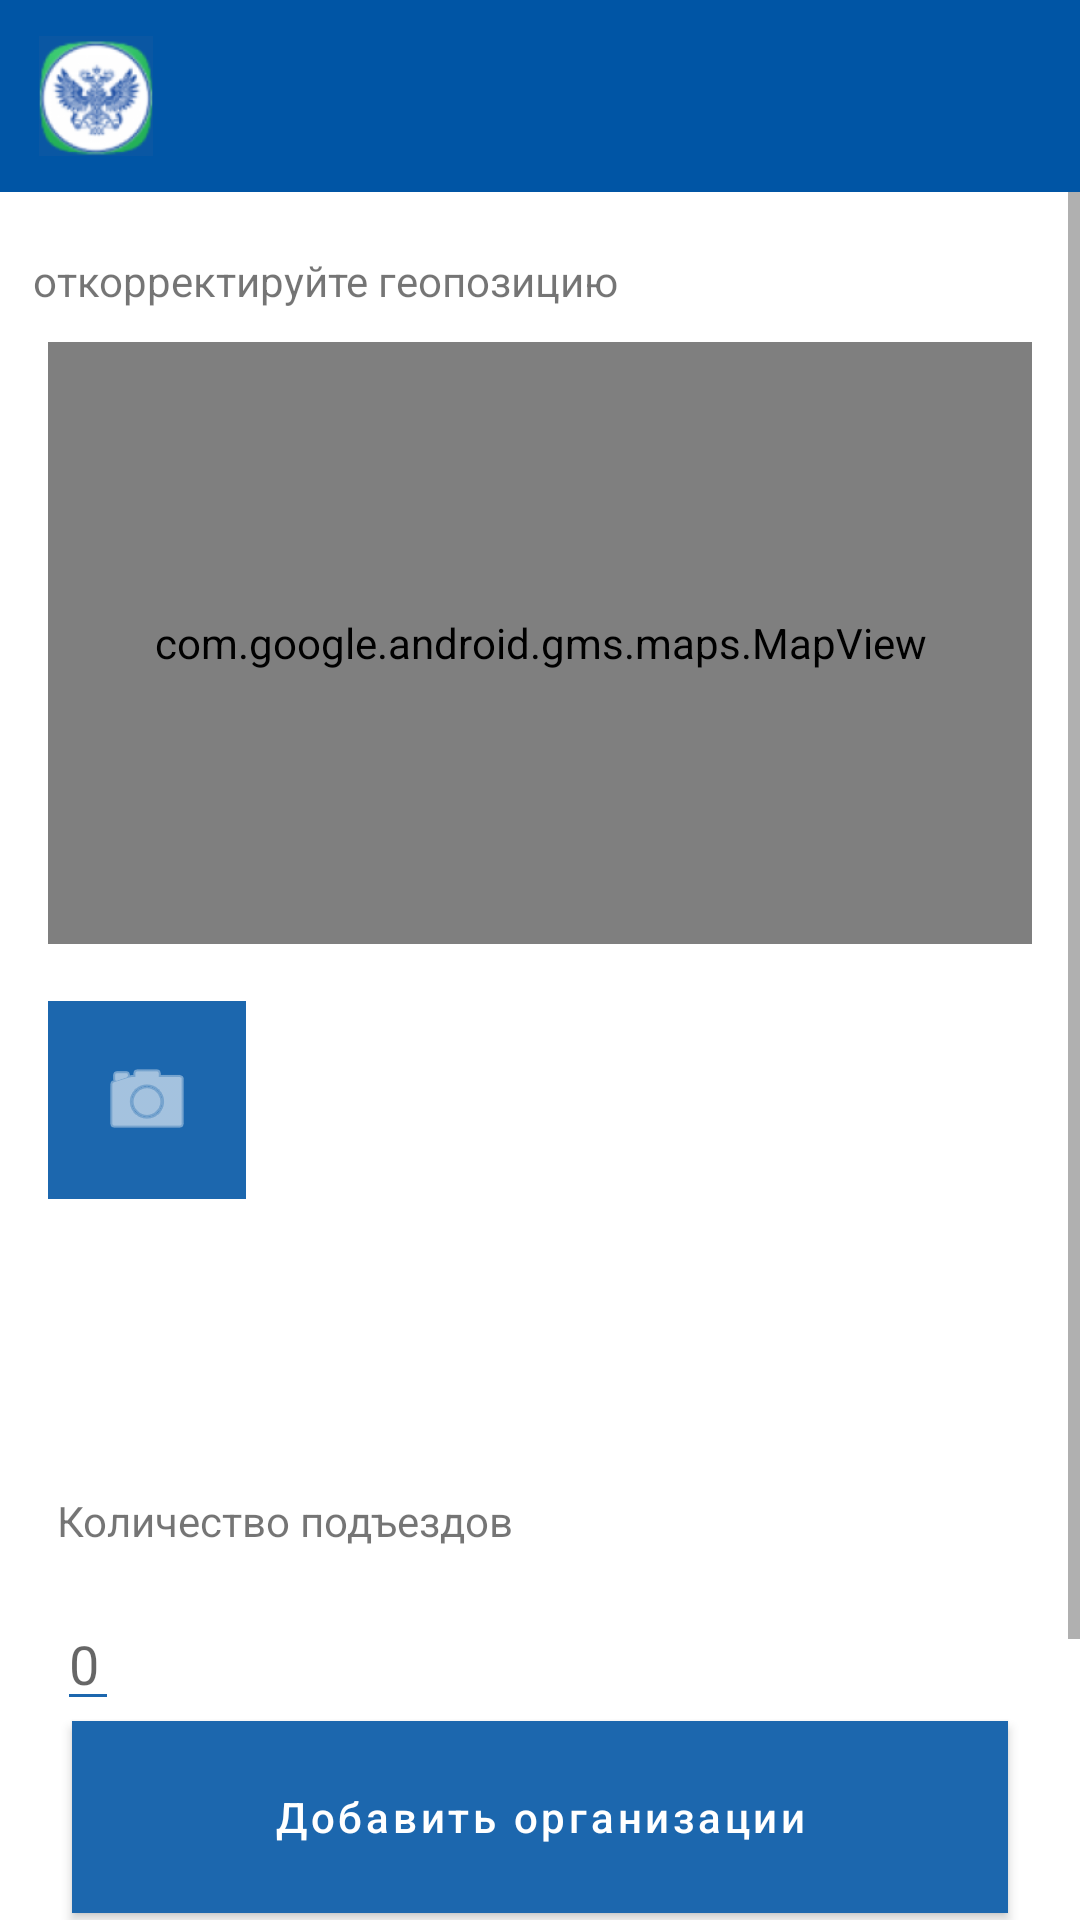

Point at icon controls on the screen. Image size 1080 × 1920, points as (x,y).
camera: (147,1100)
